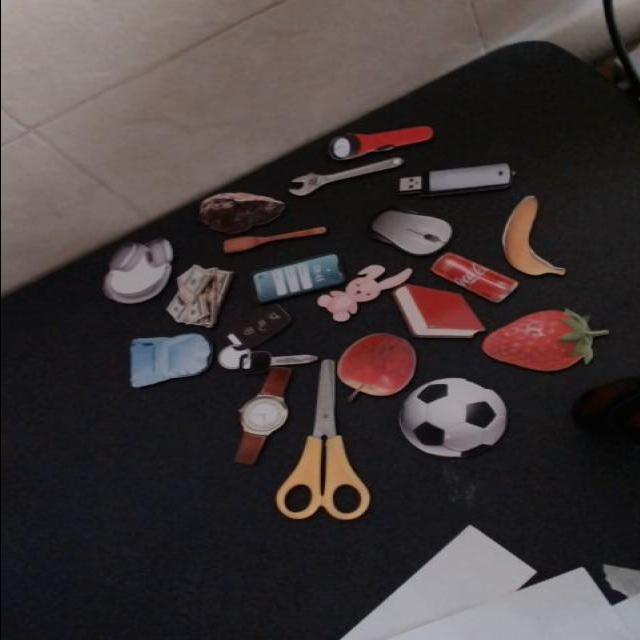Other Objects: (273, 360, 369, 521), (195, 300, 316, 391), (395, 375, 511, 460), (485, 195, 565, 286), (363, 199, 457, 263), (231, 367, 291, 466), (335, 333, 416, 403), (315, 265, 411, 323), (101, 234, 175, 308), (124, 333, 216, 387), (249, 254, 345, 304), (162, 262, 232, 330), (195, 188, 288, 239), (428, 253, 517, 304), (287, 158, 403, 197), (397, 164, 514, 200), (327, 125, 436, 162), (220, 227, 325, 254)
